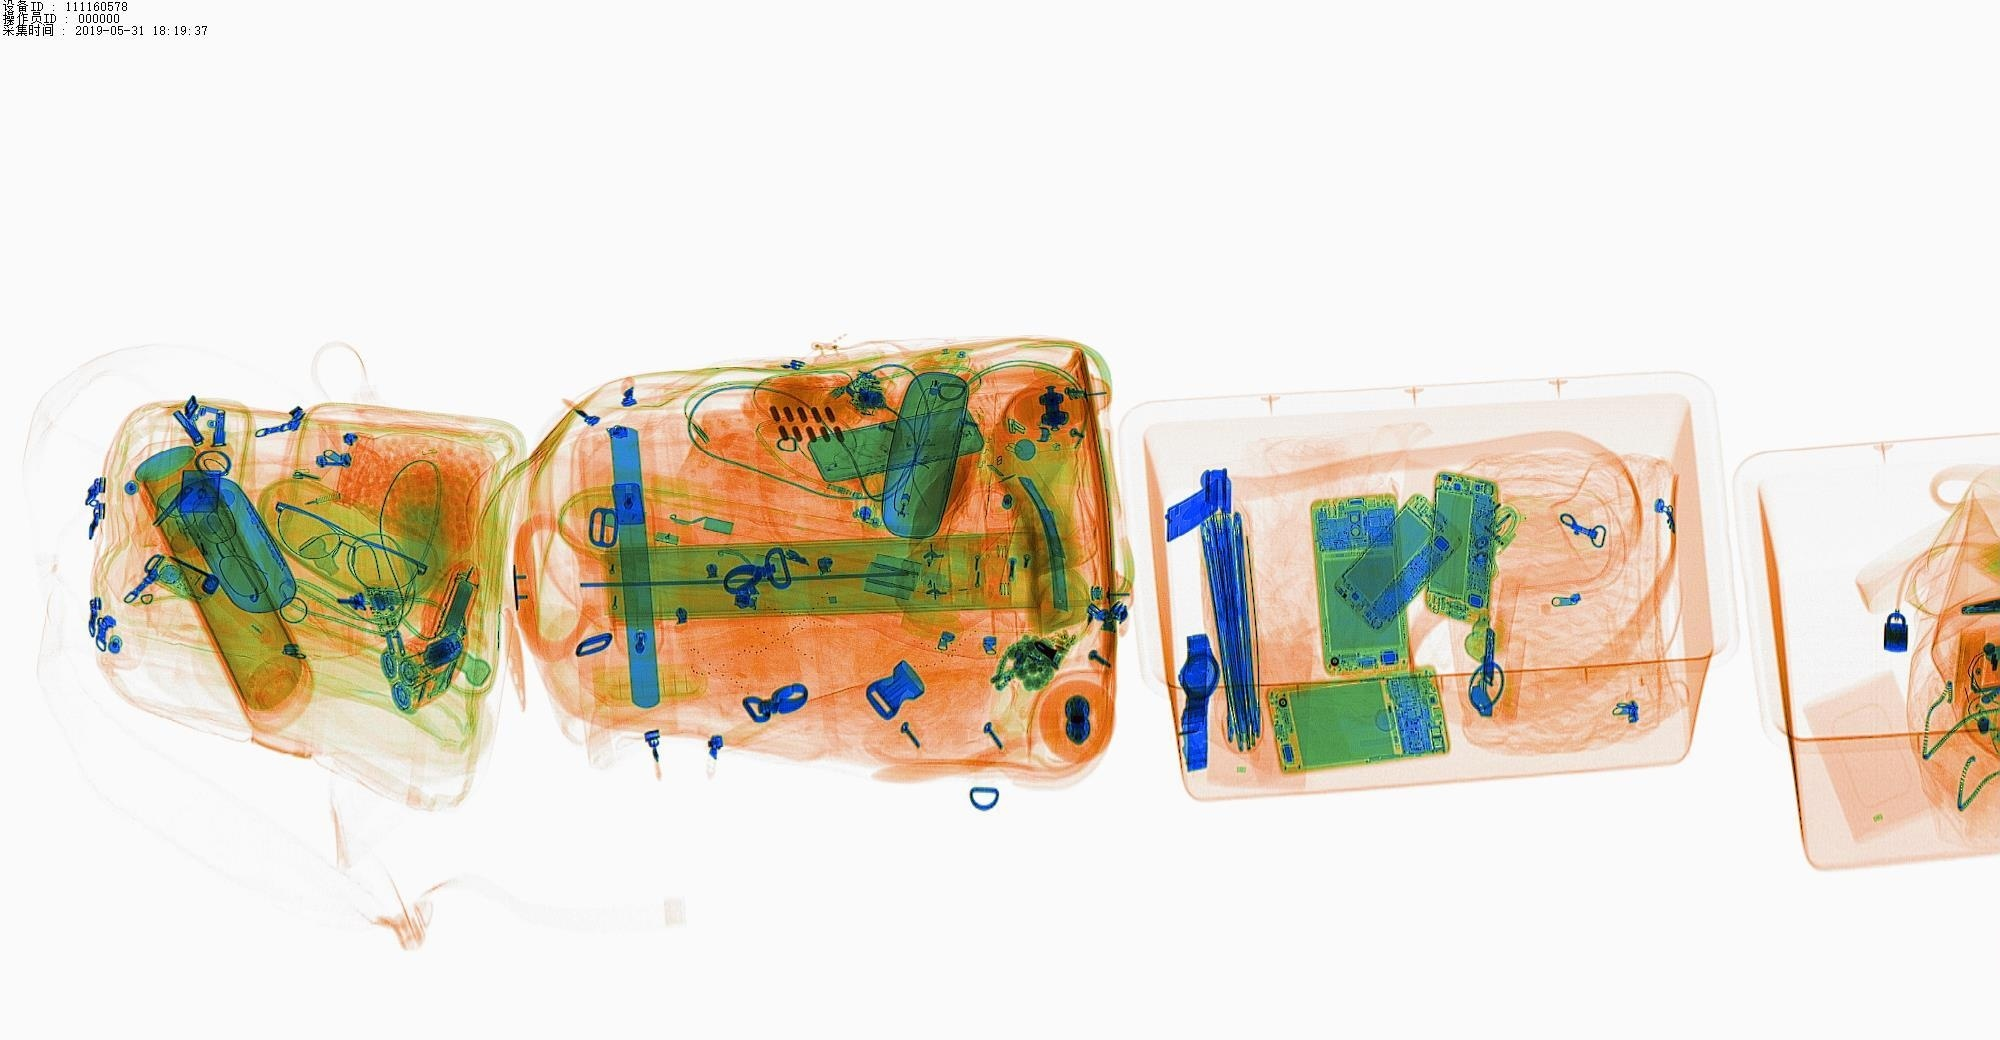NonmetallicFire: (175, 509, 230, 601)
